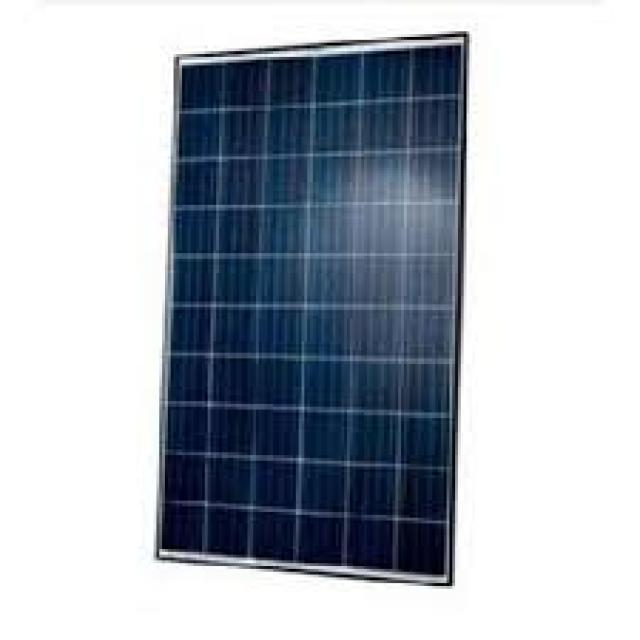Solar: (165, 39, 466, 606)
